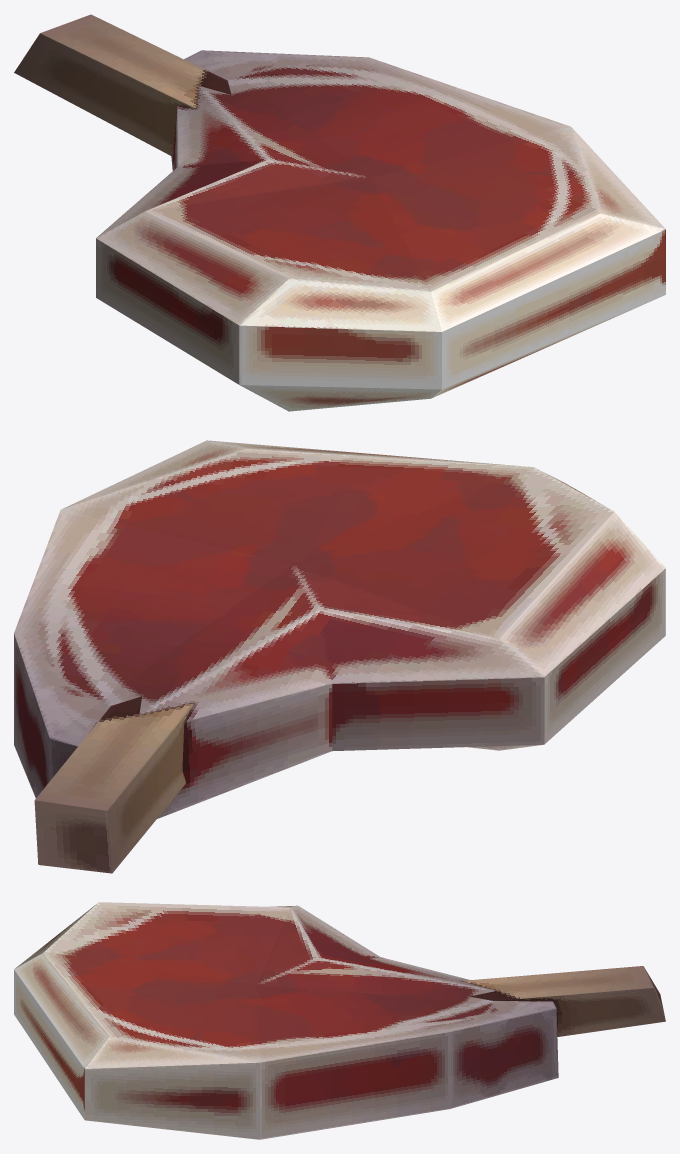
The model's file is item_meat_farmer.glb.
3 renders of one model, top to bottom at view 1: azimuth 30°, elevation 25°; view 2: azimuth 150°, elevation 25°; view 3: azimuth 270°, elevation 25°, orthographic. The views are drawn at different scales.
Visible parts, largest first — view 1: MeatChunk; view 2: MeatChunk; view 3: MeatChunk.
Part boxes in pixels (left/top/right/bottom): MeatChunk: left=14, top=14, right=665, bottom=411; MeatChunk: left=14, top=440, right=665, bottom=873; MeatChunk: left=14, top=902, right=665, bottom=1139.
Size of the model in its own units: 0.4428 by 0.1246 by 0.7085.
Materials: 1 (1 with a texture image).
